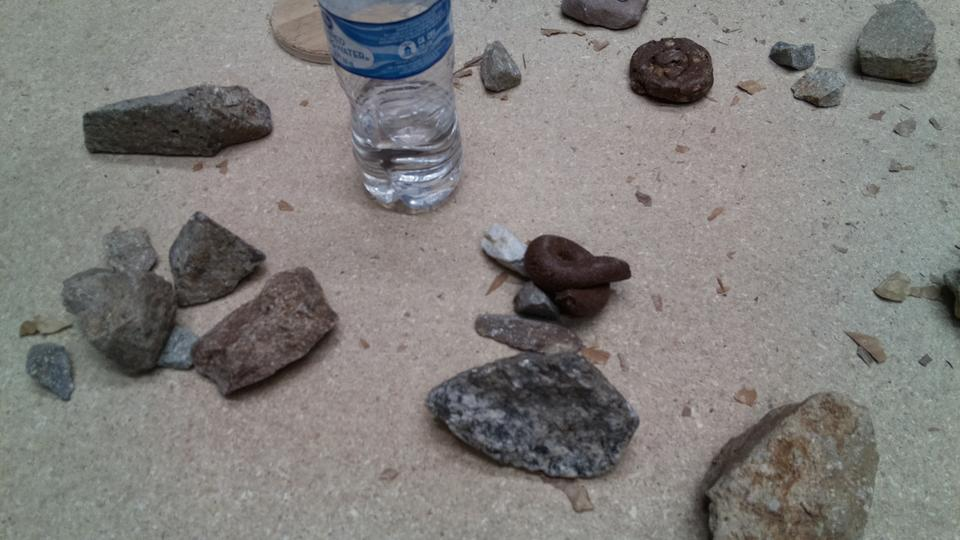poop: (522, 235, 633, 314), (628, 34, 718, 107)
